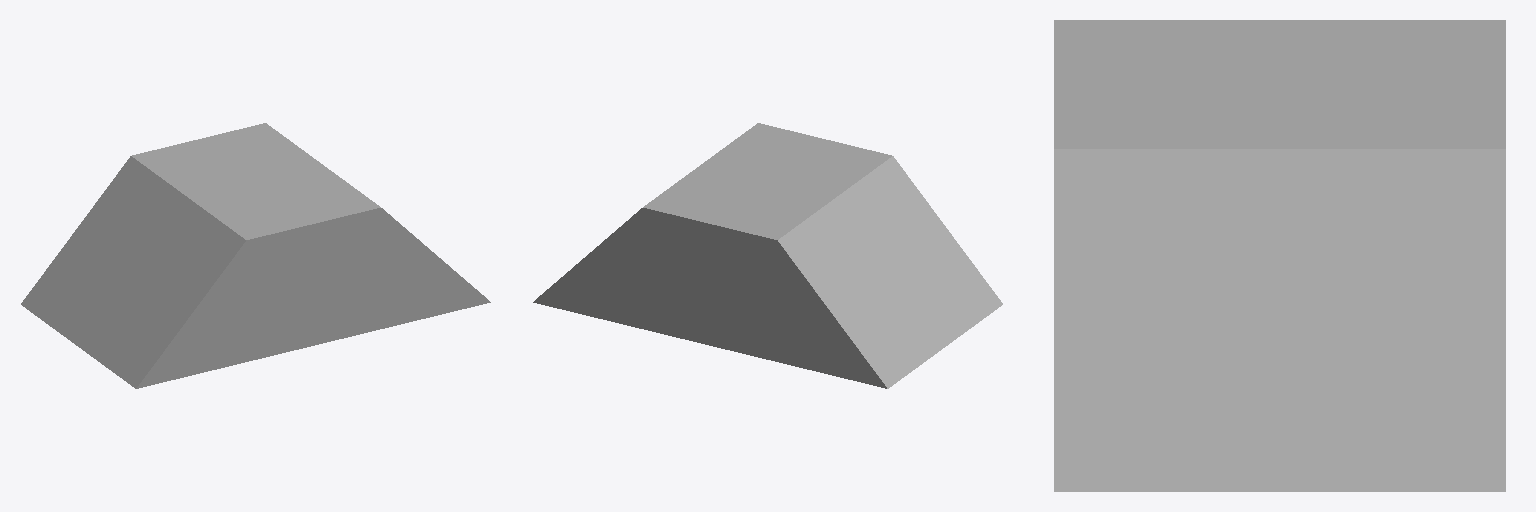
robot.urdf — platform:
<?xml version='1.0' encoding='utf-8'?>
<robot name="platform">
  <link name="base_link">
    <inertial>
      <origin xyz="0.0 0.0 0.0" rpy="0 0 0" />
      <mass value="1" />
      <inertia ixx="0.001" ixy="0" ixz="0" iyy="0.001" iyz="0" izz="0.001" />
    </inertial>
    <visual>
      <origin xyz="0 0 0" rpy="0 0 0" />
      <geometry>
        <mesh filename="package://platform/meshes/platform.stl" scale="1 1 1" />
      </geometry>
      <material name="grey">
        <color rgba="0.7 0.7 0.7 1.0" />
      </material>
    </visual>
    <collision>
      <origin xyz="0 0 0" rpy="0 0 0" />
      <geometry>
        <mesh filename="package://platform/meshes/platform.stl" scale="1 1 1" />
      </geometry>
    </collision>
  </link>
</robot>

--- What the picture shows (computed from the rendered views, not written in the file) ---
Views: 3 orthographic renders of the robot side by side, from view 1: azimuth 30°, elevation 25°; view 2: azimuth 150°, elevation 25°; view 3: azimuth 270°, elevation 25°.
Model platform with 1 links and 0 joints (none), rooted at base_link, posed every joint at zero.
Links seen in each view (by area): view 1: base_link; view 2: base_link; view 3: base_link.
Link boxes in pixels (box(x1,y1,x2,y2)): base_link: box(21, 123, 490, 388); base_link: box(533, 123, 1002, 388); base_link: box(1054, 20, 1505, 491).
Bounding box of the posed robot: 1.25 × 0.705 × 0.41 m (x, y, z).
1 mesh visuals loaded from 1 distinct referenced files (1 binary STL).